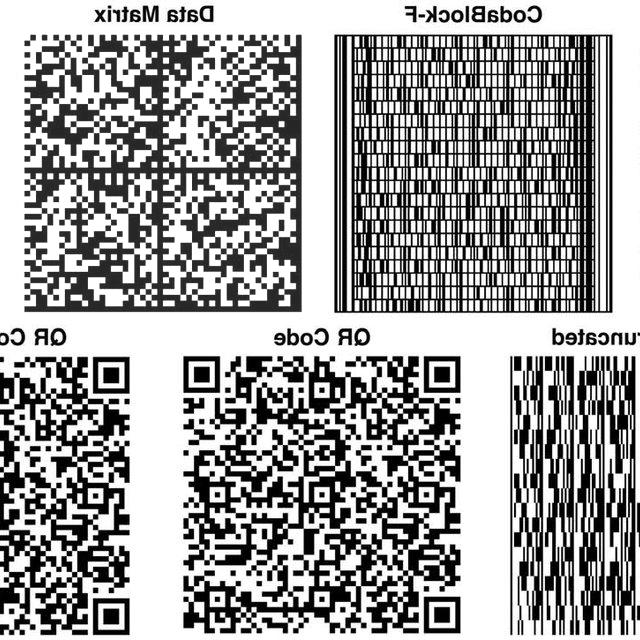DataMatrix: (18, 26, 306, 318)
